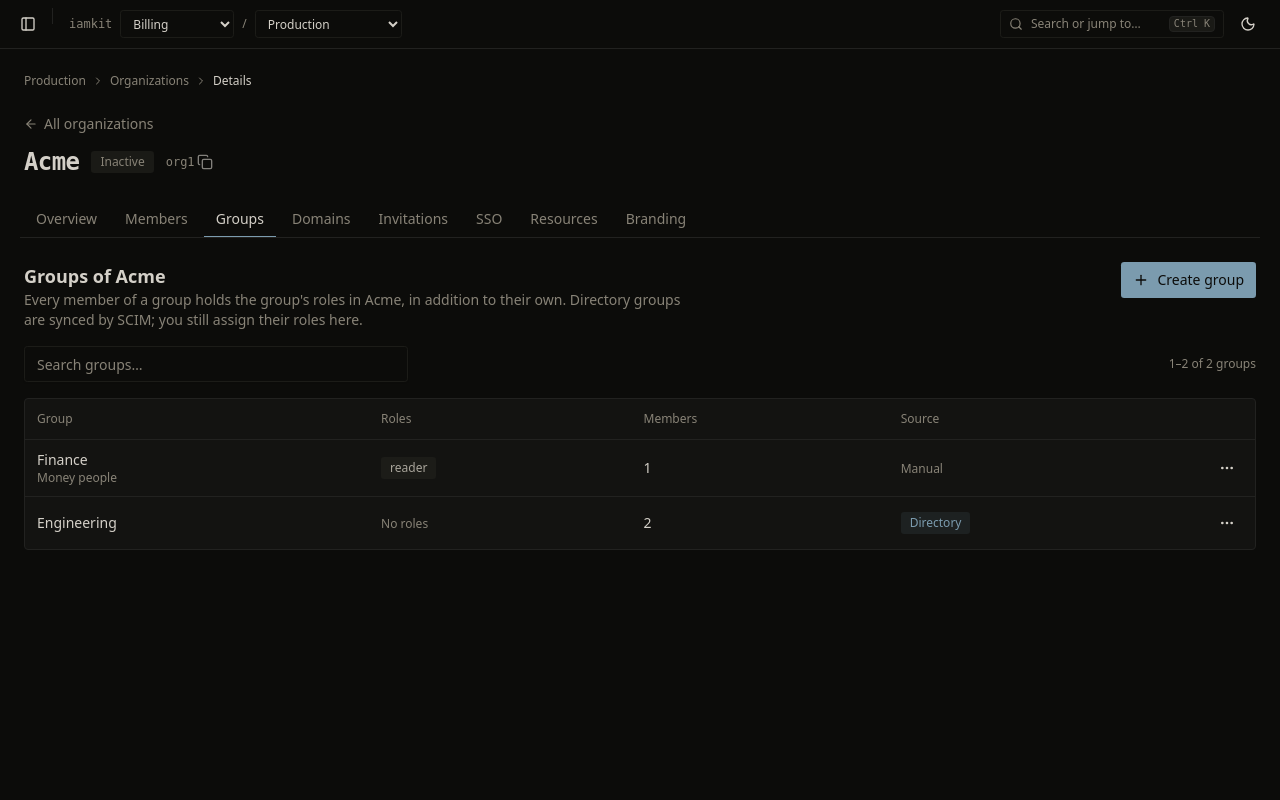
Test: creates a group and opens it
Click the button "Create group" at (1189, 280), box [1122, 262, 1256, 298]
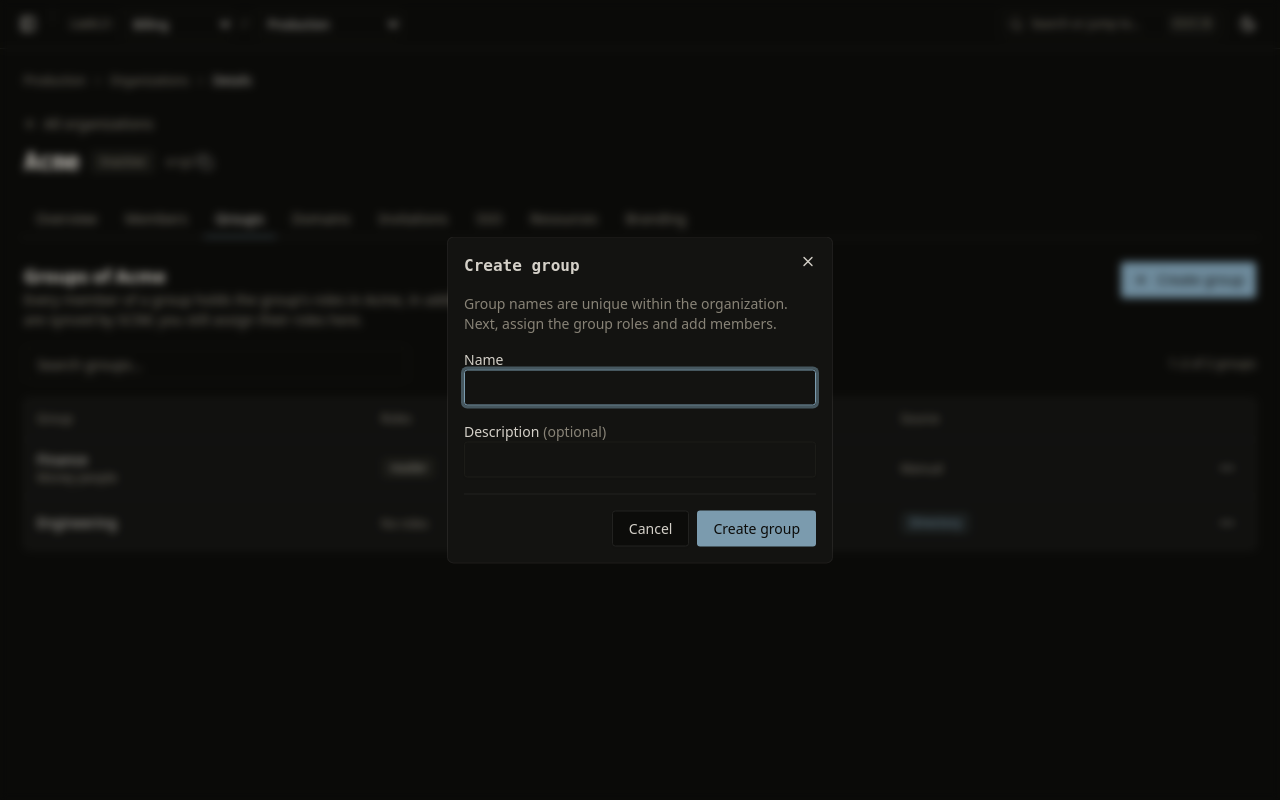
Type "Ops" into the field labelled "Name" at (640, 388), box [464, 370, 816, 406]
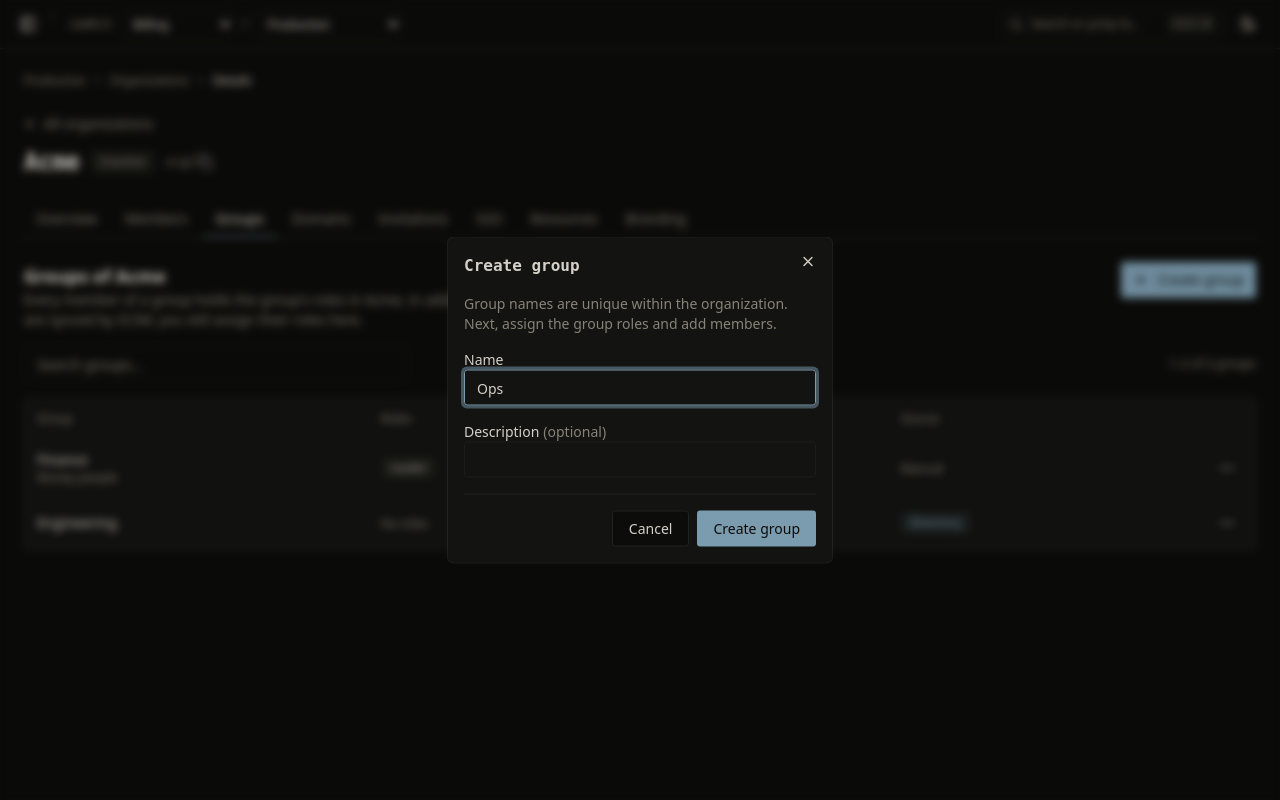
Click the button "Create group" at (757, 528), box [698, 510, 816, 546]
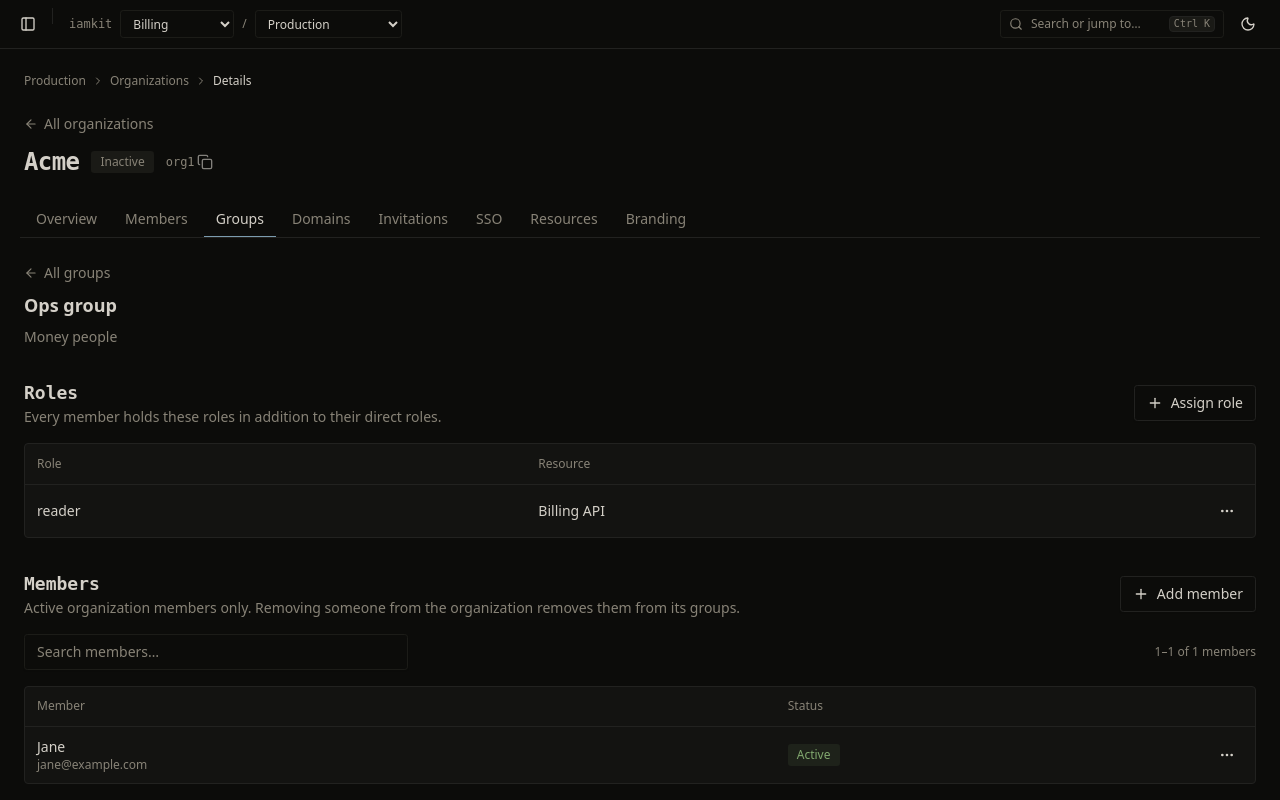
Expected: the heading "Ops group" is shown, [24, 291, 117, 319]
